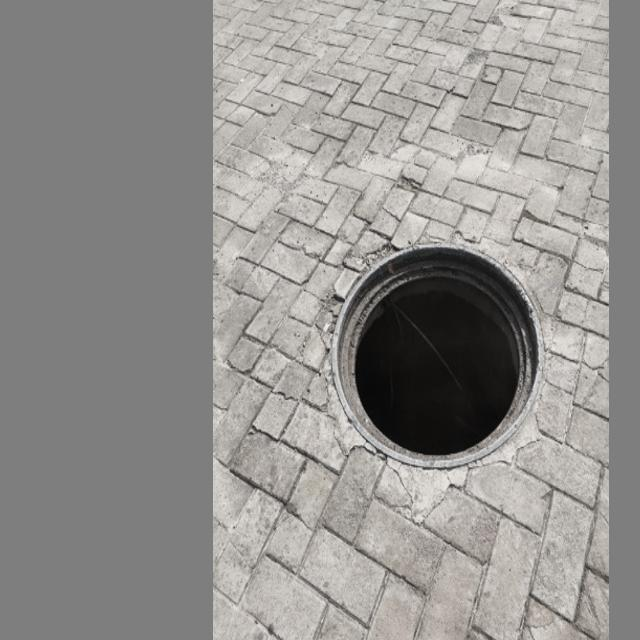lose: (330, 241, 543, 466)
